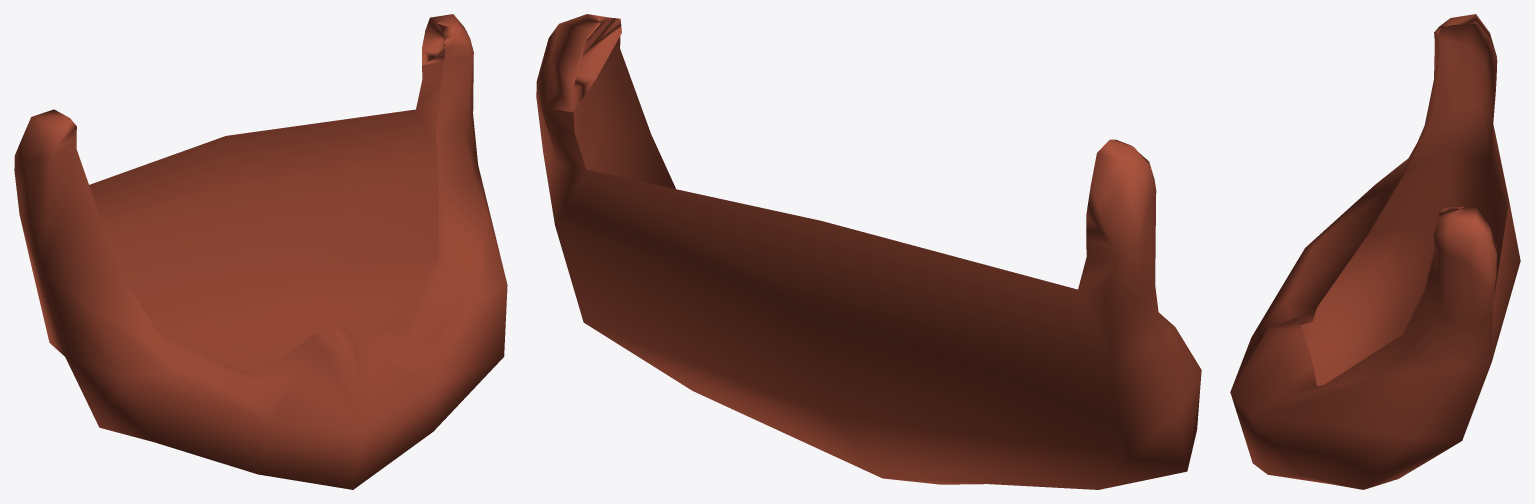
File: Beard_Brown_10.fbx
3 renders of one model, left to right at view 1: azimuth 30°, elevation 25°; view 2: azimuth 150°, elevation 25°; view 3: azimuth 270°, elevation 25°, orthographic. The views are drawn at different scales.
Parts seen in each view (by area): view 1: Beard_Brown_10; view 2: Beard_Brown_10; view 3: Beard_Brown_10.
Part boxes in pixels (x1,y1,x2,y2): Beard_Brown_10: [14, 14, 507, 489]; Beard_Brown_10: [536, 14, 1201, 489]; Beard_Brown_10: [1230, 14, 1520, 489].
Size of the model in its own units: 52.51 by 38.74 by 29.34.
